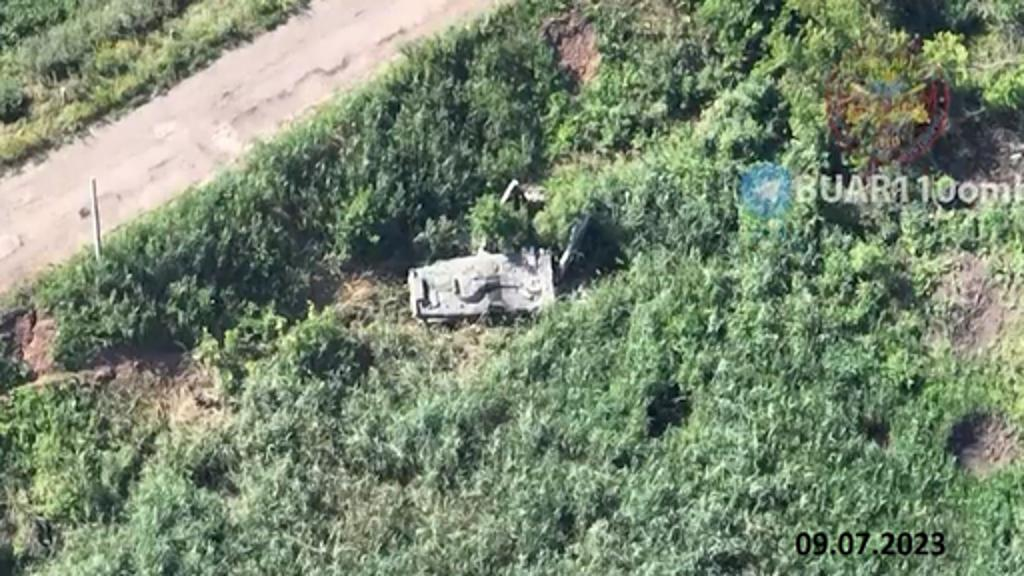APC-IFV: (390, 238, 566, 336)
